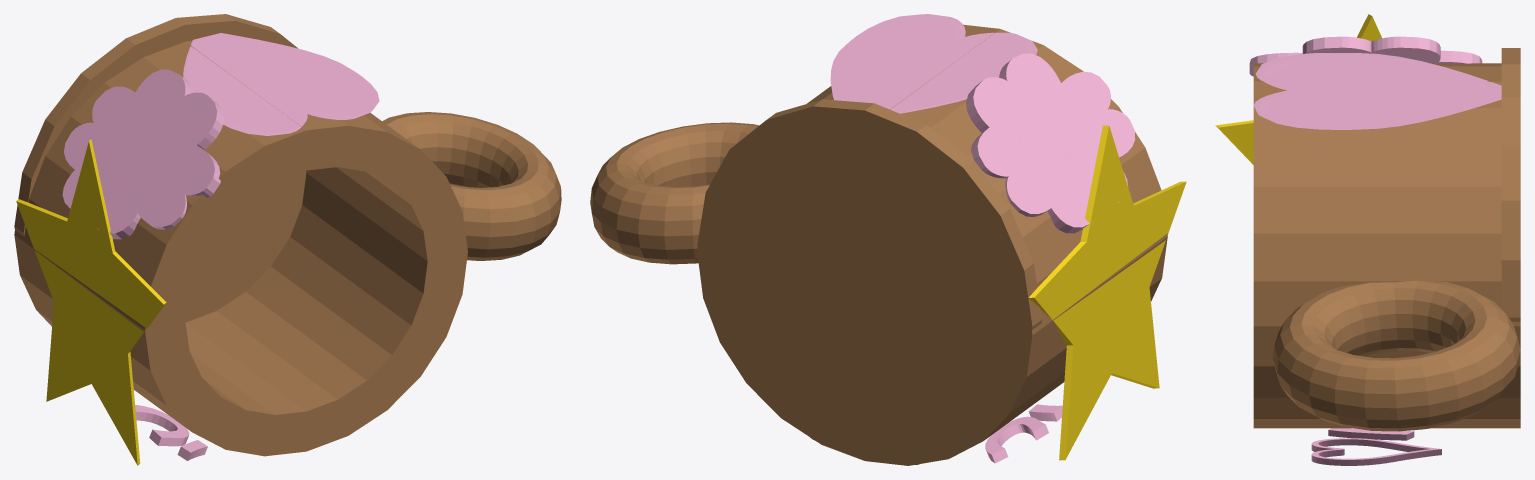
Rendered from tinker.obj.
3 renders of one model, left to right at view 1: azimuth 30°, elevation 25°; view 2: azimuth 150°, elevation 25°; view 3: azimuth 270°, elevation 25°, orthographic. The views are drawn at different scales.
Visible parts, largest first — view 1: group_0_11107152, group_0_15708628, group_0_16768282; view 2: group_0_11107152, group_0_15708628, group_0_16768282; view 3: group_0_11107152, group_0_15708628, group_0_16768282.
Boxes of the visible parts, x1,y1,x2,y2 form: group_0_11107152: (14, 14, 561, 456); group_0_15708628: (62, 33, 379, 460); group_0_16768282: (16, 139, 166, 465); group_0_11107152: (590, 24, 1167, 465); group_0_15708628: (830, 14, 1135, 463); group_0_16768282: (1029, 125, 1186, 460); group_0_11107152: (1253, 48, 1520, 431); group_0_15708628: (1249, 36, 1501, 465); group_0_16768282: (1215, 14, 1381, 164).
Bounding box in the file's own units: 29 × 21 × 16.
